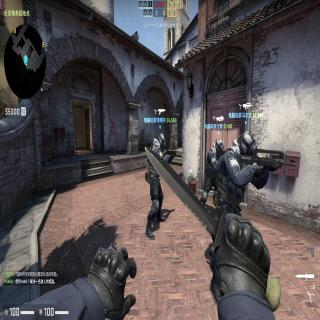CT-Head: (240, 132, 256, 156), (157, 133, 165, 151), (216, 138, 224, 153)
